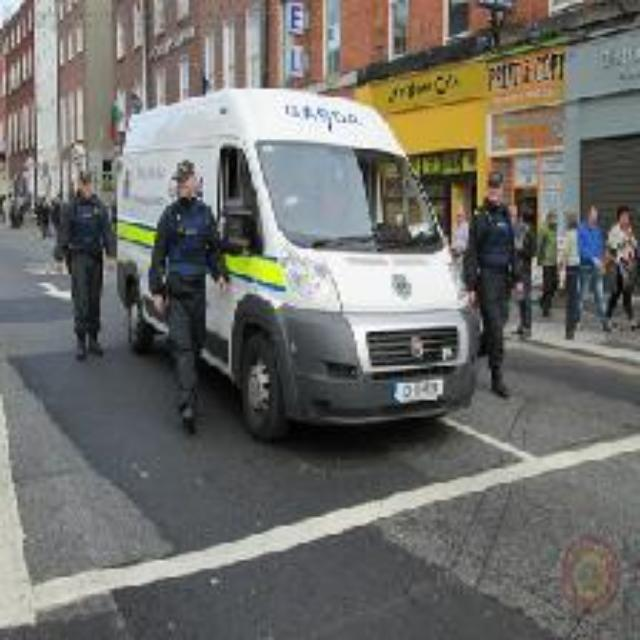emergency: (118, 98, 468, 440)
